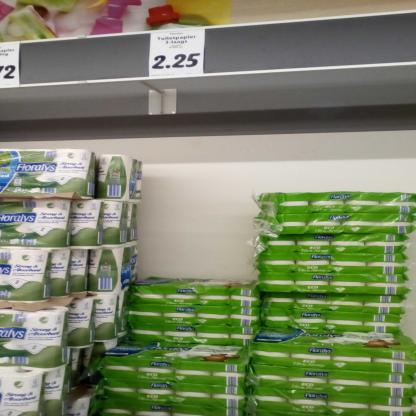prtg: (150, 30, 206, 77), (1, 45, 21, 87)
